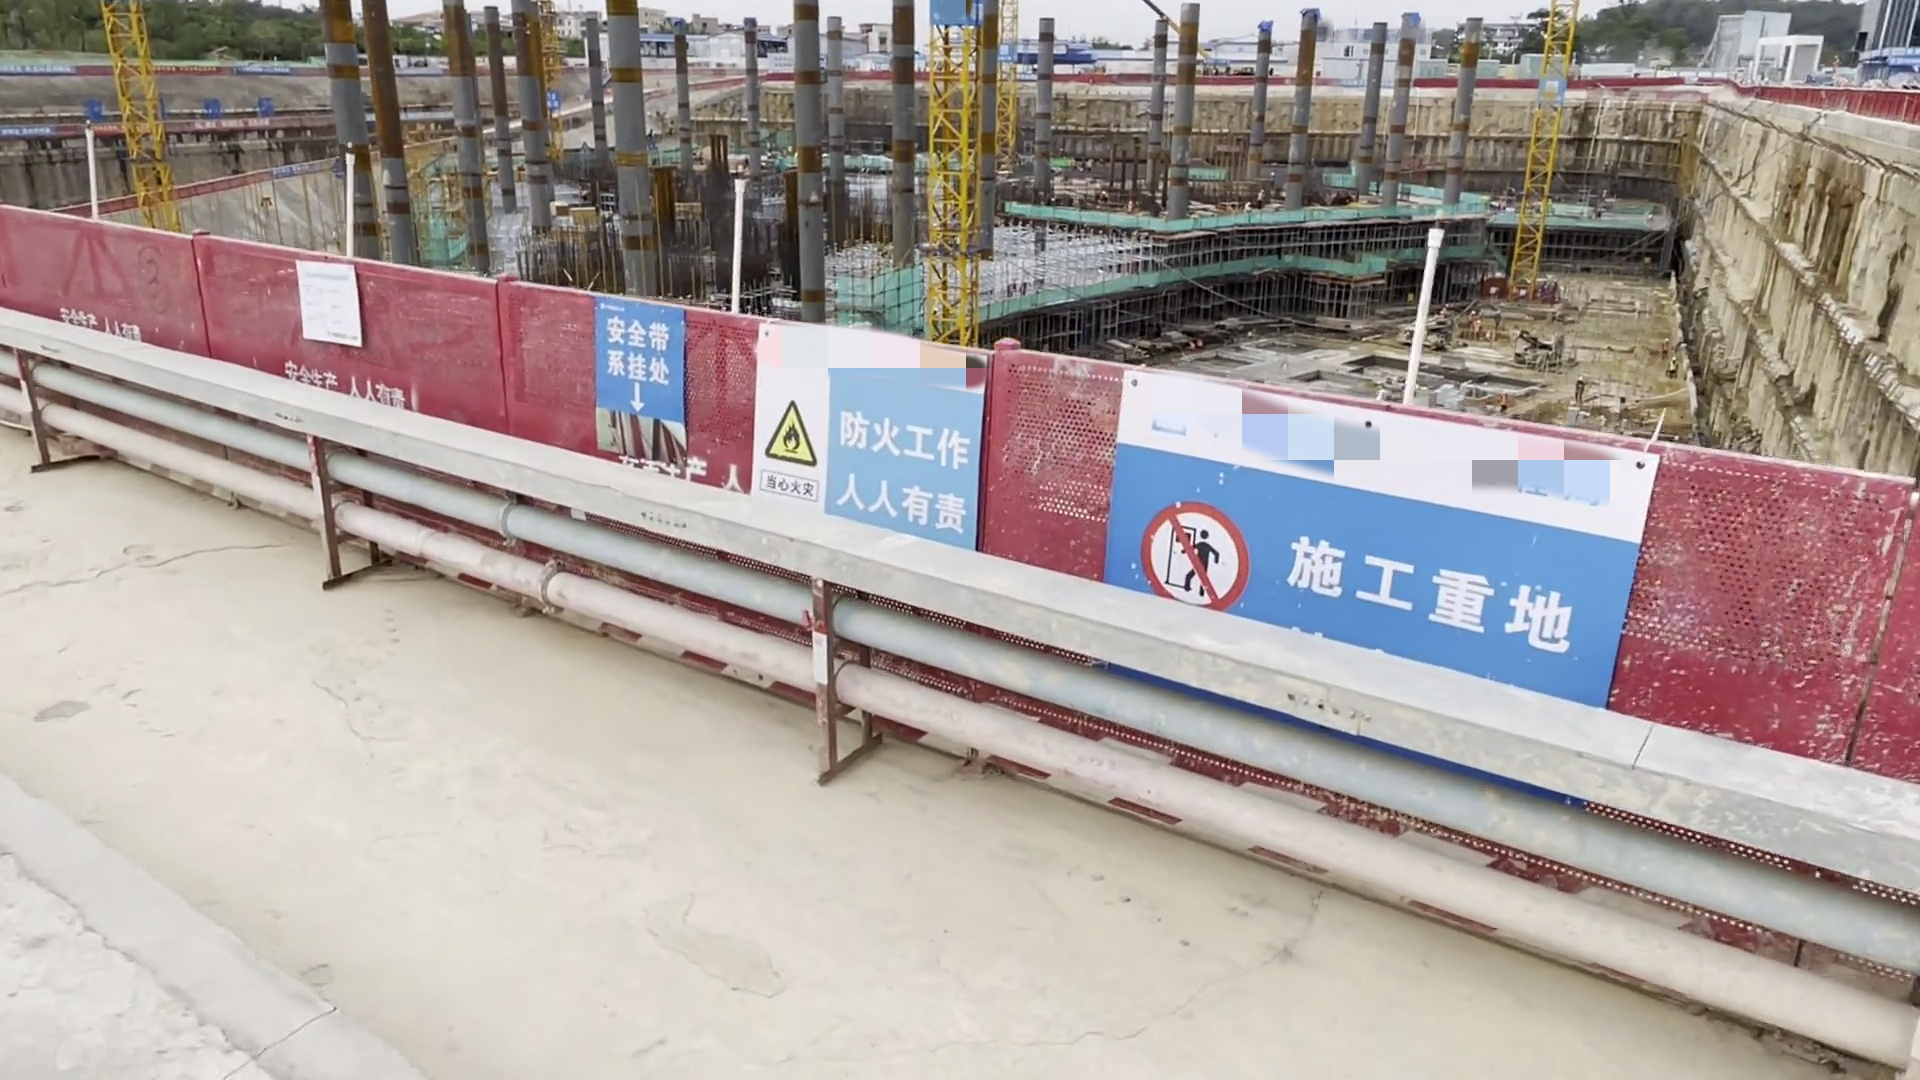brick: (1416, 386, 1463, 408)
fence: (993, 345, 1920, 762), (505, 282, 983, 571), (193, 238, 517, 451), (3, 206, 207, 369)
person: (1575, 376, 1584, 405), (1667, 357, 1680, 374), (1659, 337, 1670, 358), (1501, 391, 1509, 411)
slogan: (1104, 370, 1656, 714), (754, 318, 979, 557), (592, 298, 685, 422), (188, 119, 281, 132), (1856, 49, 1920, 66), (235, 63, 292, 77), (144, 64, 223, 74), (1, 64, 74, 74), (1, 127, 52, 138), (543, 91, 558, 108), (995, 46, 1007, 66), (94, 125, 127, 132)
